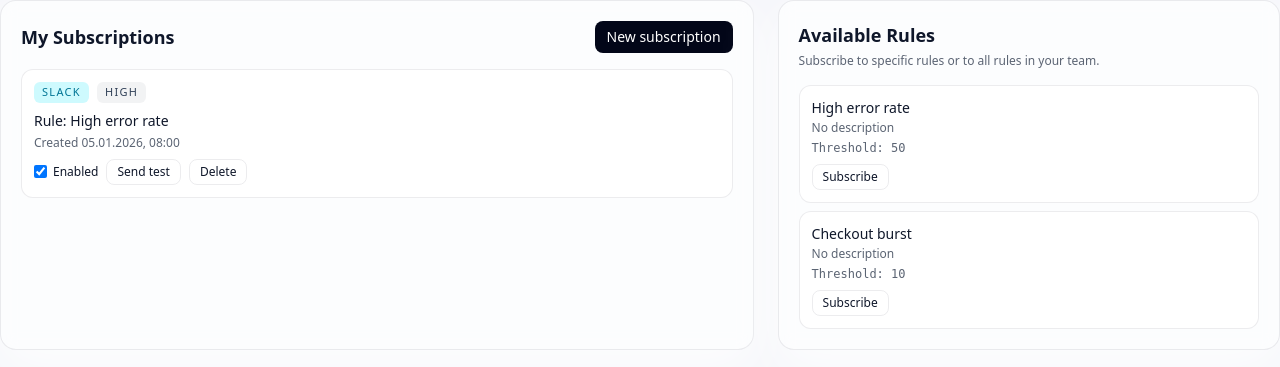
Test case: enable, disable and test › switches a subscription off through the API and shows it as disabled
This screenshot has width=1280, height=367.
Click the checkbox named "Enabled: SLACK subscription".
click(40, 172)  # box [34,165,47,178]
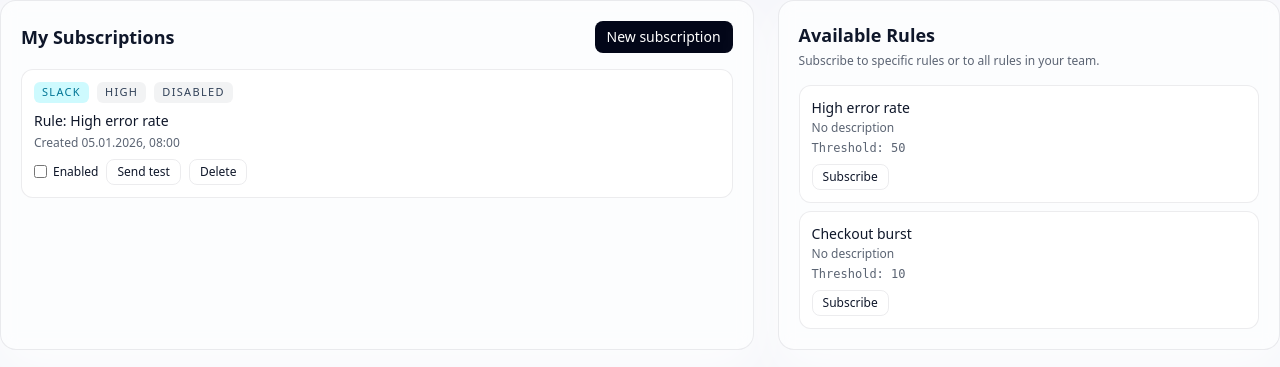
Now the text "DISABLED" is shown, box [154,82,233,102]
